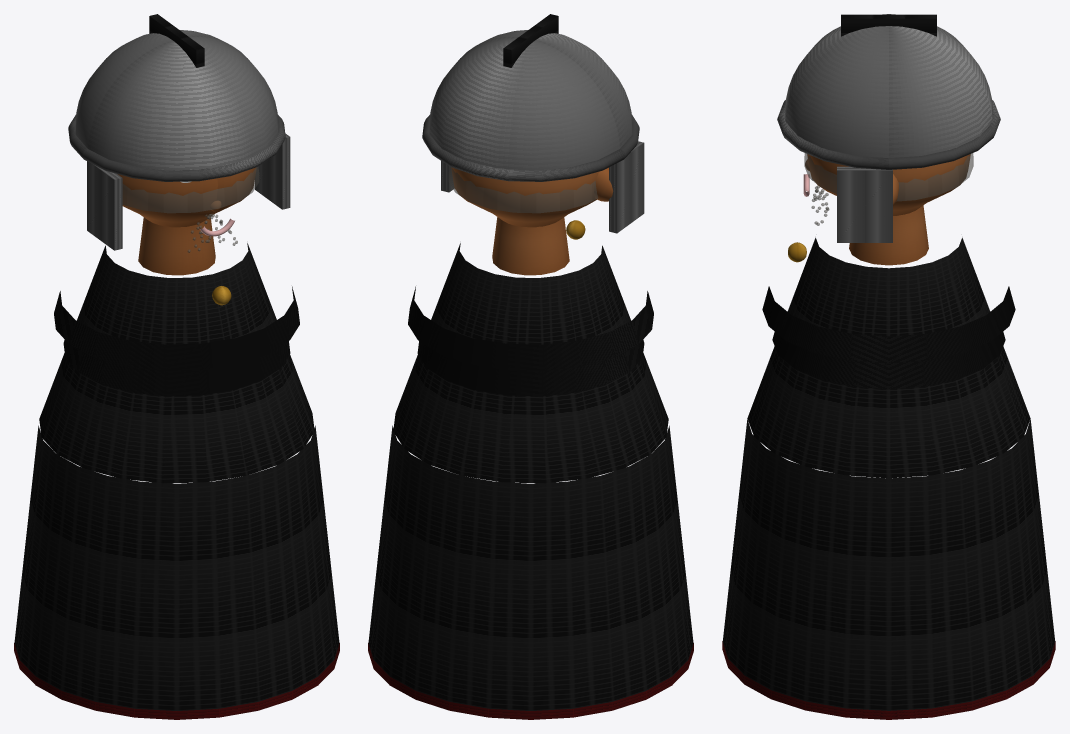
Rendered from execution_soldier.glb.
3 views of the same model, side by side, from view 1: azimuth 30°, elevation 25°; view 2: azimuth 150°, elevation 25°; view 3: azimuth 270°, elevation 25° (orthographic). The views are drawn at different scales.
Visible parts, largest first — view 1: Character_execution_detail_soldier, head; view 2: Character_execution_detail_soldier, head; view 3: Character_execution_detail_soldier, head.
Part boxes in pixels (bbox=[...]): Character_execution_detail_soldier: bbox=[14, 14, 339, 719]; head: bbox=[117, 167, 256, 227]; Character_execution_detail_soldier: bbox=[368, 14, 693, 719]; head: bbox=[451, 167, 598, 227]; Character_execution_detail_soldier: bbox=[722, 14, 1055, 719]; head: bbox=[807, 154, 970, 215].
Bounding box in the file's own units: 0.8589 × 1.8 × 0.8589.
15 materials, 11 textured.
